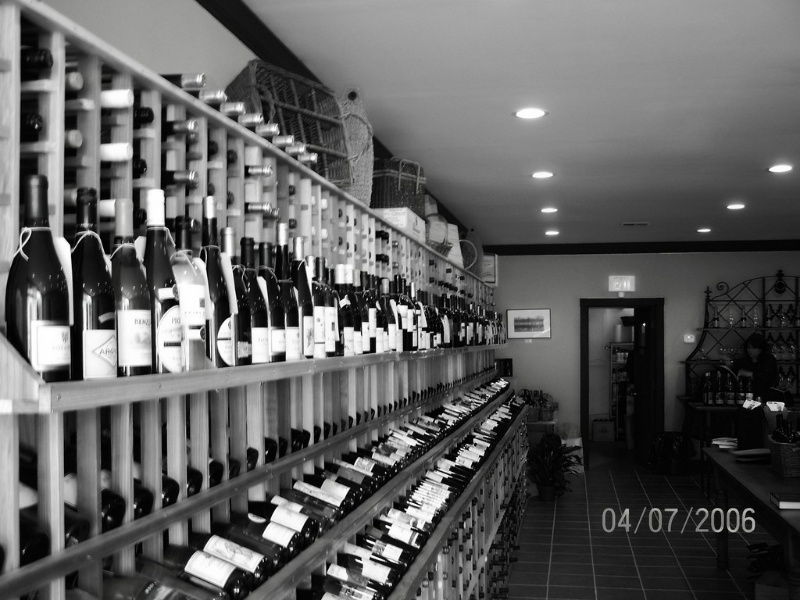wine: (4, 3, 520, 371), (4, 352, 531, 600), (679, 266, 800, 452)
